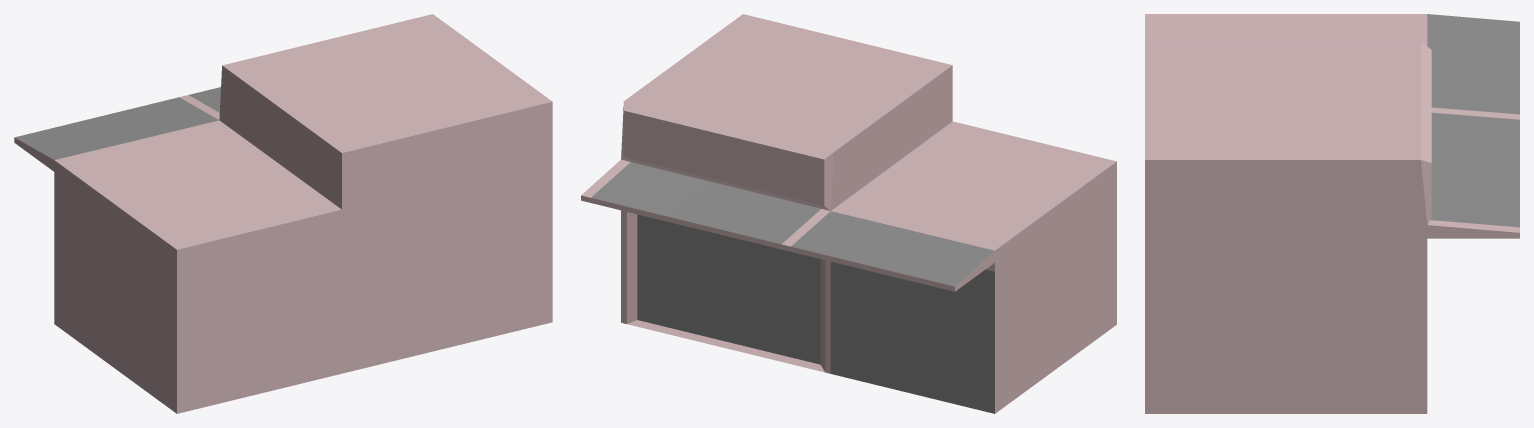
3 views of the same model, side by side, from view 1: azimuth 30°, elevation 25°; view 2: azimuth 150°, elevation 25°; view 3: azimuth 270°, elevation 25° (orthographic). The views are drawn at different scales.
Visible parts, largest first — view 1: 立方体.003; view 2: 立方体.003; view 3: 立方体.003.
Part boxes in pixels (bbox=[...]): 立方体.003: bbox=[14, 14, 552, 413]; 立方体.003: bbox=[581, 14, 1116, 413]; 立方体.003: bbox=[1145, 14, 1519, 413].
Bounding box in the file's own units: 1668 × 936 × 1252.
